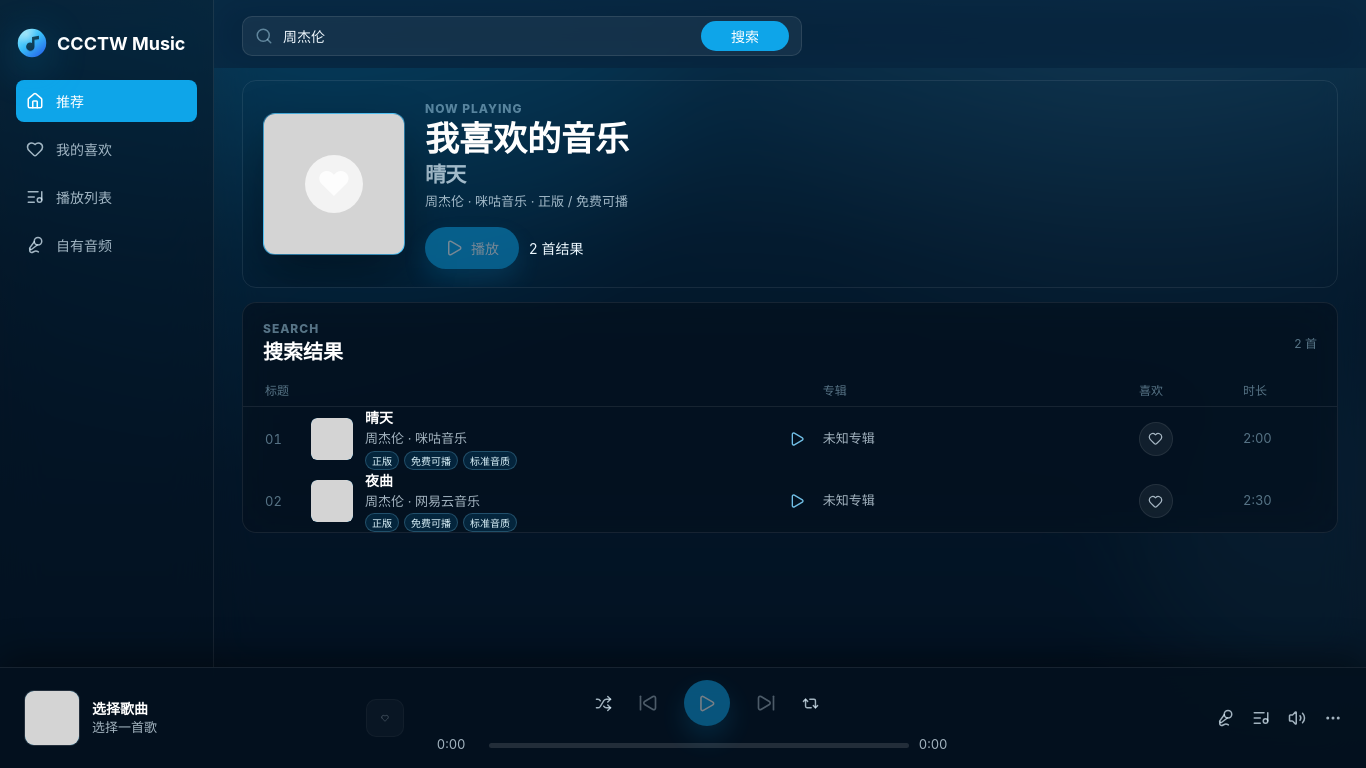
Test: App › shows recoverable playback errors
What coordinates should you click on to do the following:
click the button named "播放 晴天"
I would click on:
 (332, 439)
Its box is top-left (265, 407), bottom-right (809, 470).
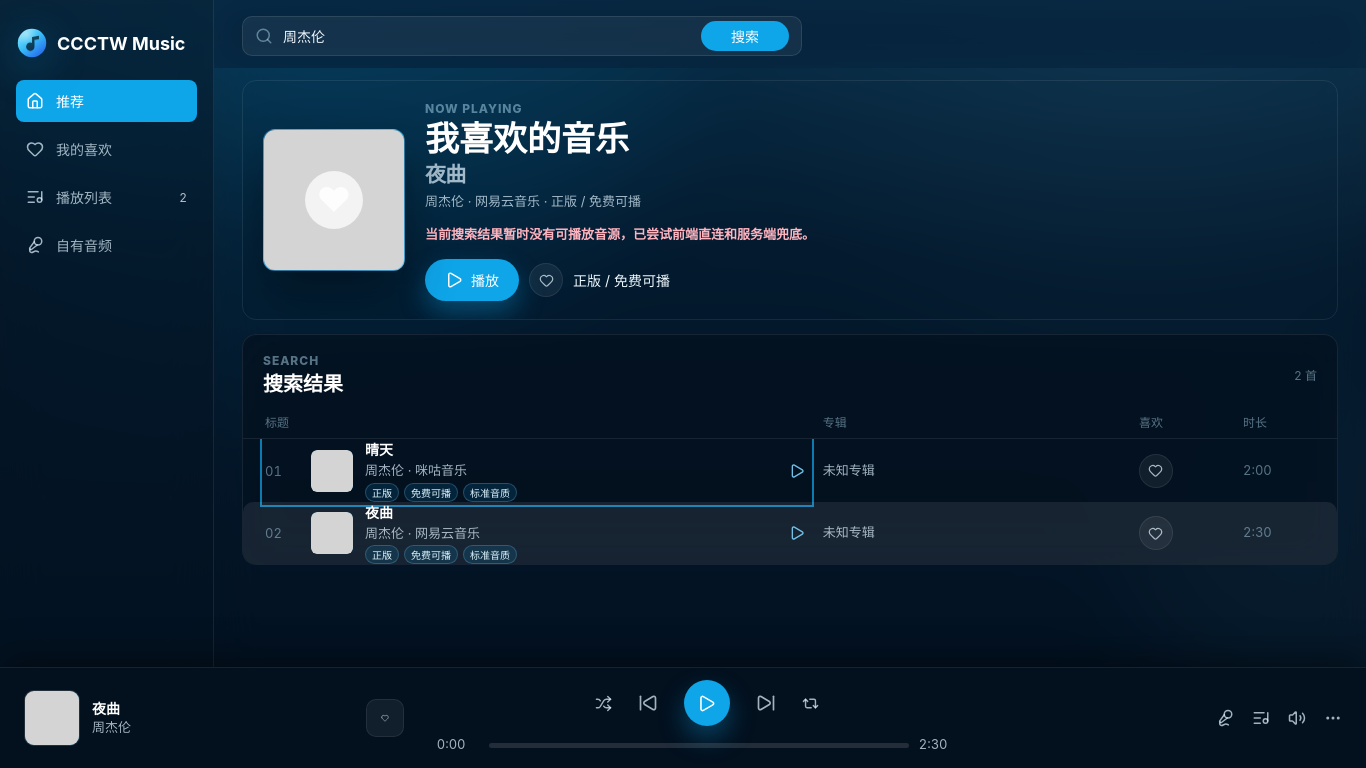
expect the text "当前搜索结果暂时没有可播放音源，已尝试前端直连和服务端兜底。" is shown: met, box top-left (425, 226), bottom-right (815, 242)
